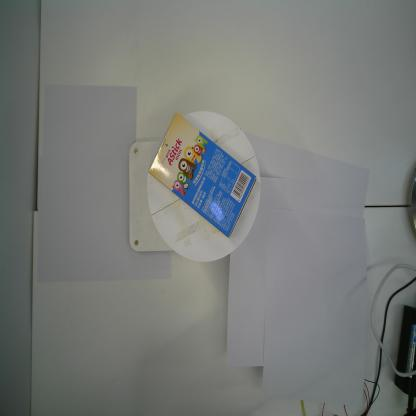Dessert: (148, 112, 256, 238)
